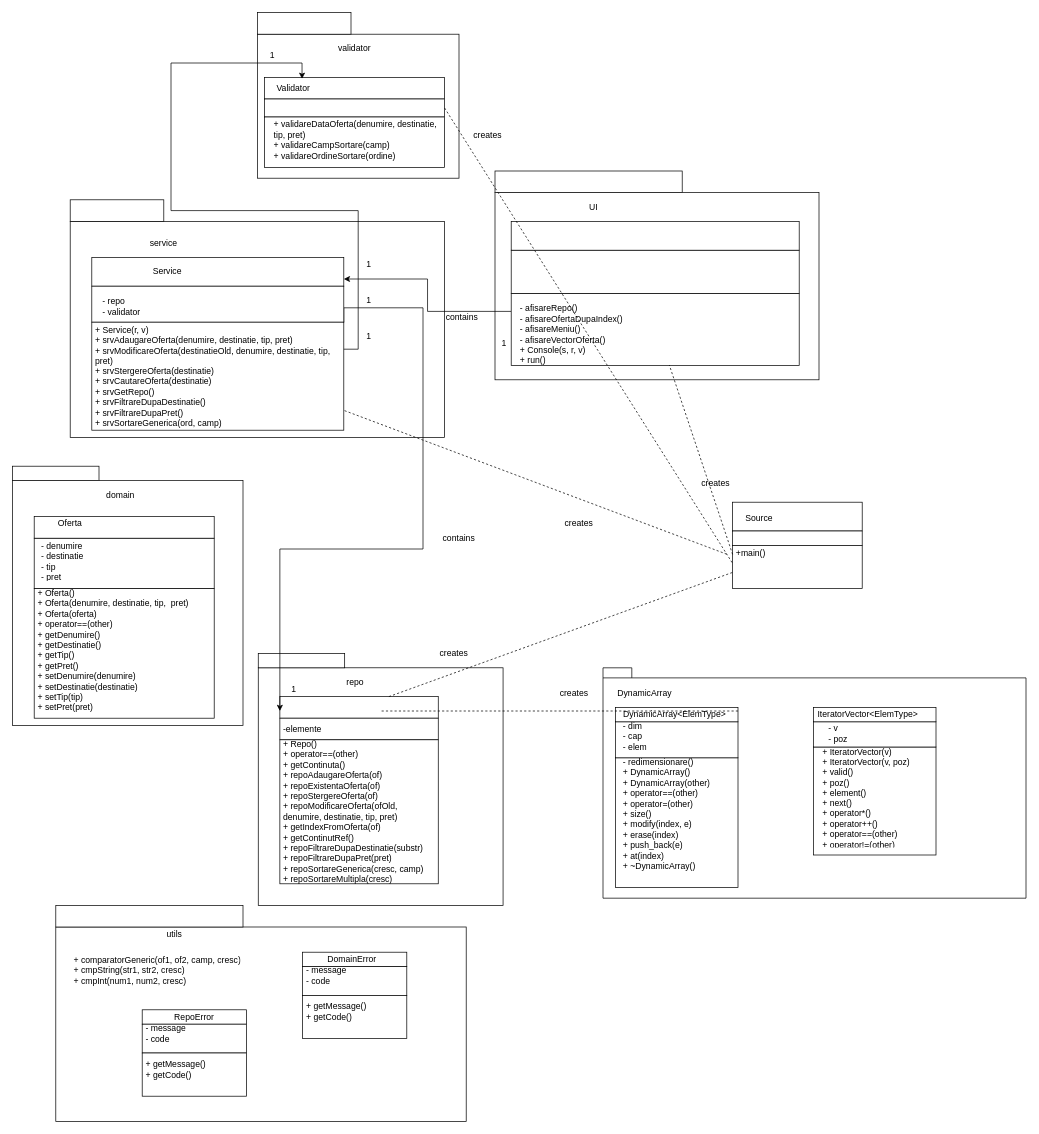
The diagram is 1039 pixels wide and 1134 high, and some of its shapes have lost their labels. The box of each missing label's shape, as (x1, y1, x2, y2) in pixels:
- srv - repo - validator: (510, 249, 799, 293)
Console: (510, 221, 799, 250)
Repository: (279, 696, 438, 718)
